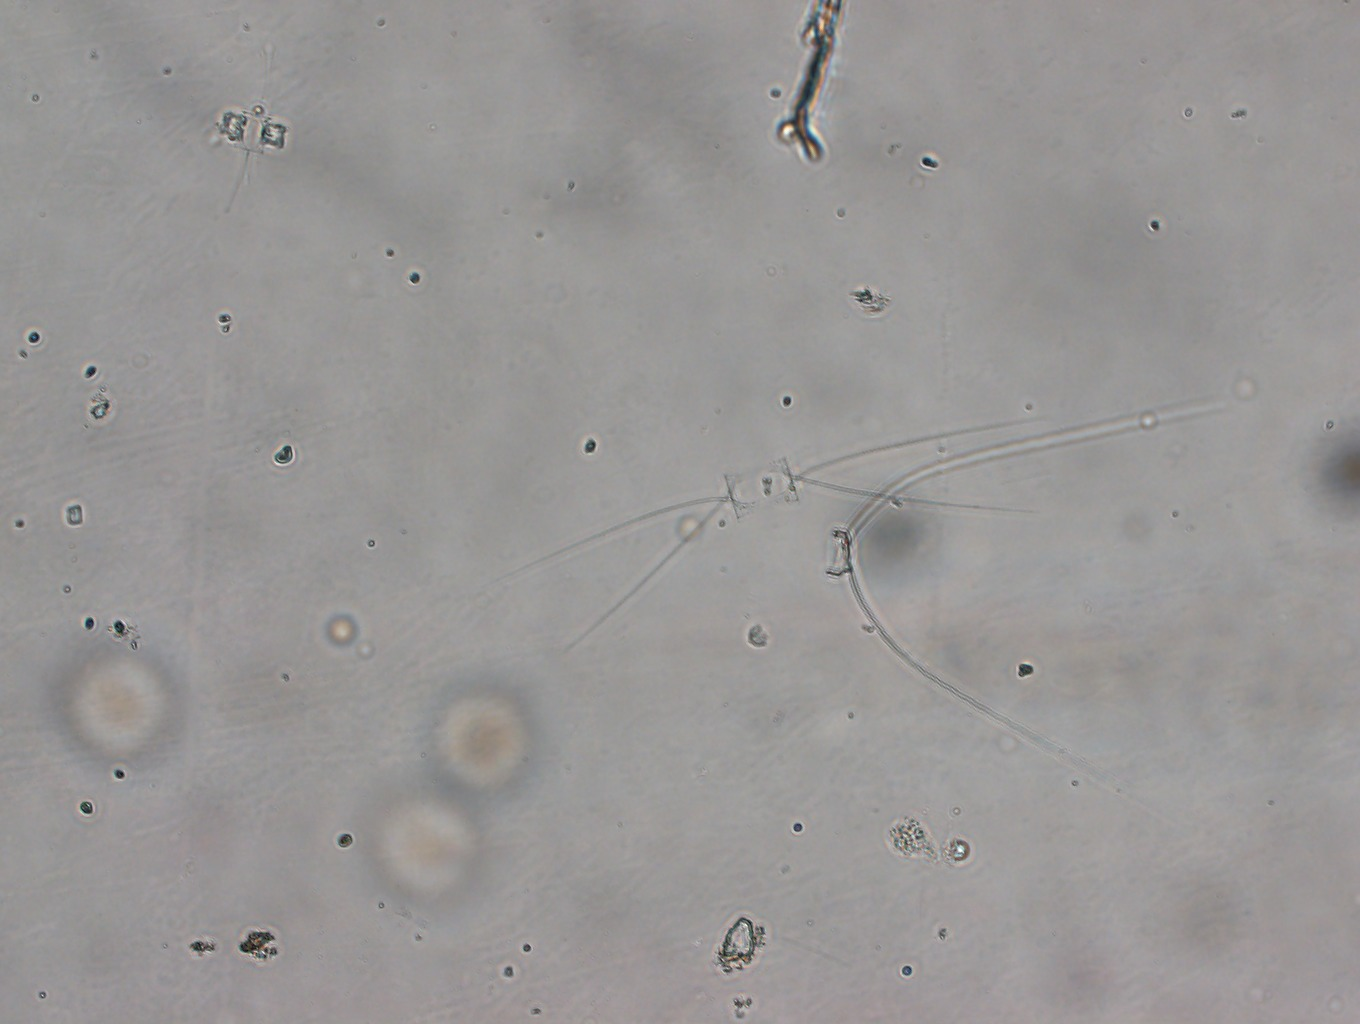chaetoceros: (499, 408, 1053, 660)
